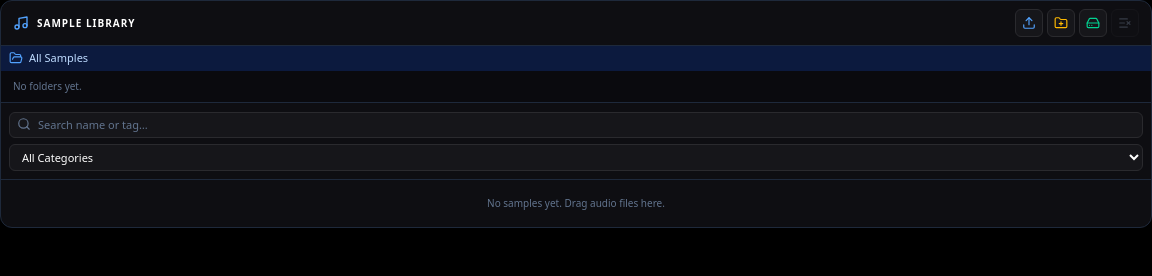
it: SampleBrowser coverage › reports skipped files after a linked scan
This screenshot has width=1152, height=276.
Check: the text "No samples yet. Drag audio files here." is shown, box x1=487 y1=196 x2=665 y2=210
Click the button titled "Link a folder on disk".
click(1093, 23)  # box x1=1079 y1=9 x2=1107 y2=37
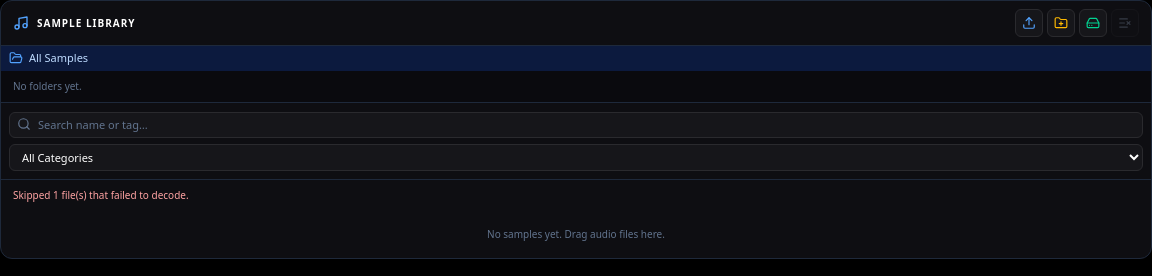
Check: the text "Skipped 1 file(s) that failed to decode." is shown, box x1=13 y1=188 x2=189 y2=202
